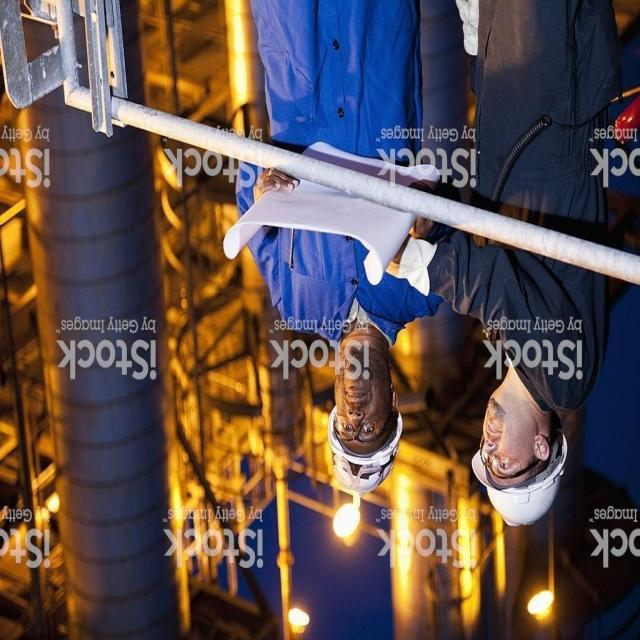helmet: (468, 424, 576, 536), (320, 406, 413, 497)
